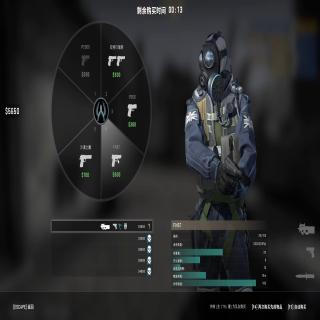CT-Body: (184, 30, 257, 212)
CT-Head: (197, 31, 229, 89)
